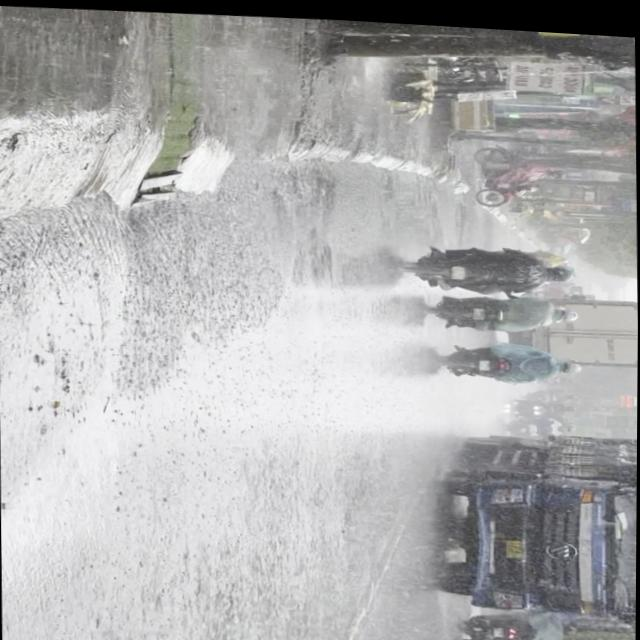helmet: (548, 256, 576, 275), (561, 354, 583, 367)
licenseplate: (398, 234, 579, 295), (437, 333, 583, 384)
nohelmet: (450, 260, 464, 273)
